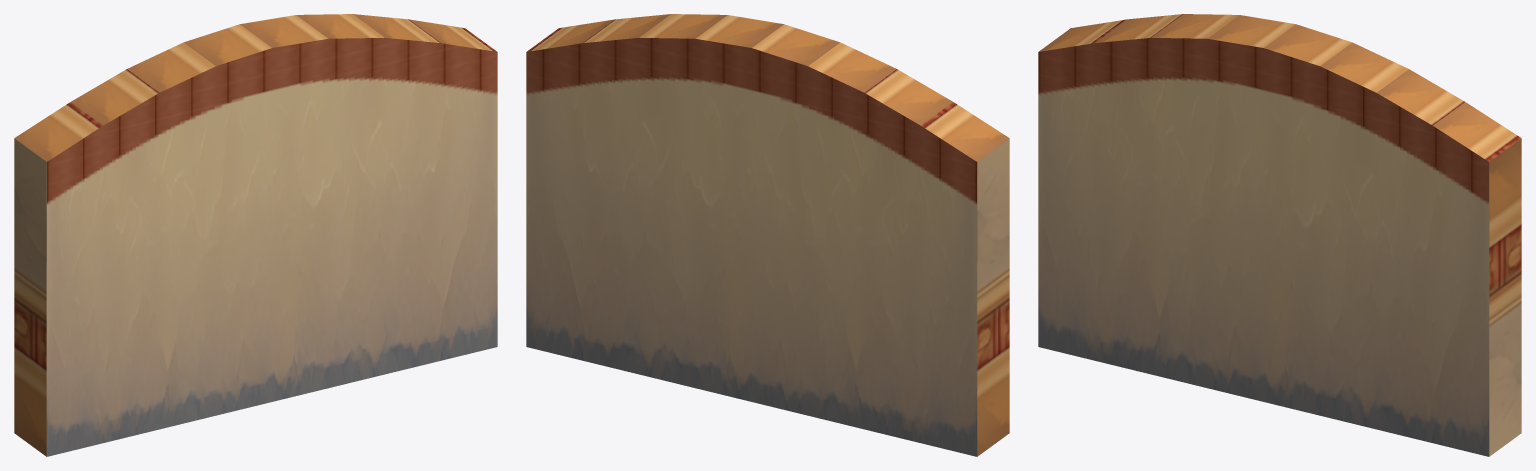
The model's file is SPN_Parapet2.fbx.
3 renders of one model, left to right at view 1: azimuth 30°, elevation 25°; view 2: azimuth 150°, elevation 25°; view 3: azimuth 330°, elevation 25°, orthographic.
Visible parts, largest first — view 1: SPN_Parapet2; view 2: SPN_Parapet2; view 3: SPN_Parapet2.
Boxes of the visible parts, x1,y1,x2,y2 form: SPN_Parapet2: (14,14,497,456); SPN_Parapet2: (526,14,1009,456); SPN_Parapet2: (1038,14,1521,456).
Bounding box in the file's own units: 2 × 0.25 × 1.5.
1 material, 1 textured.
